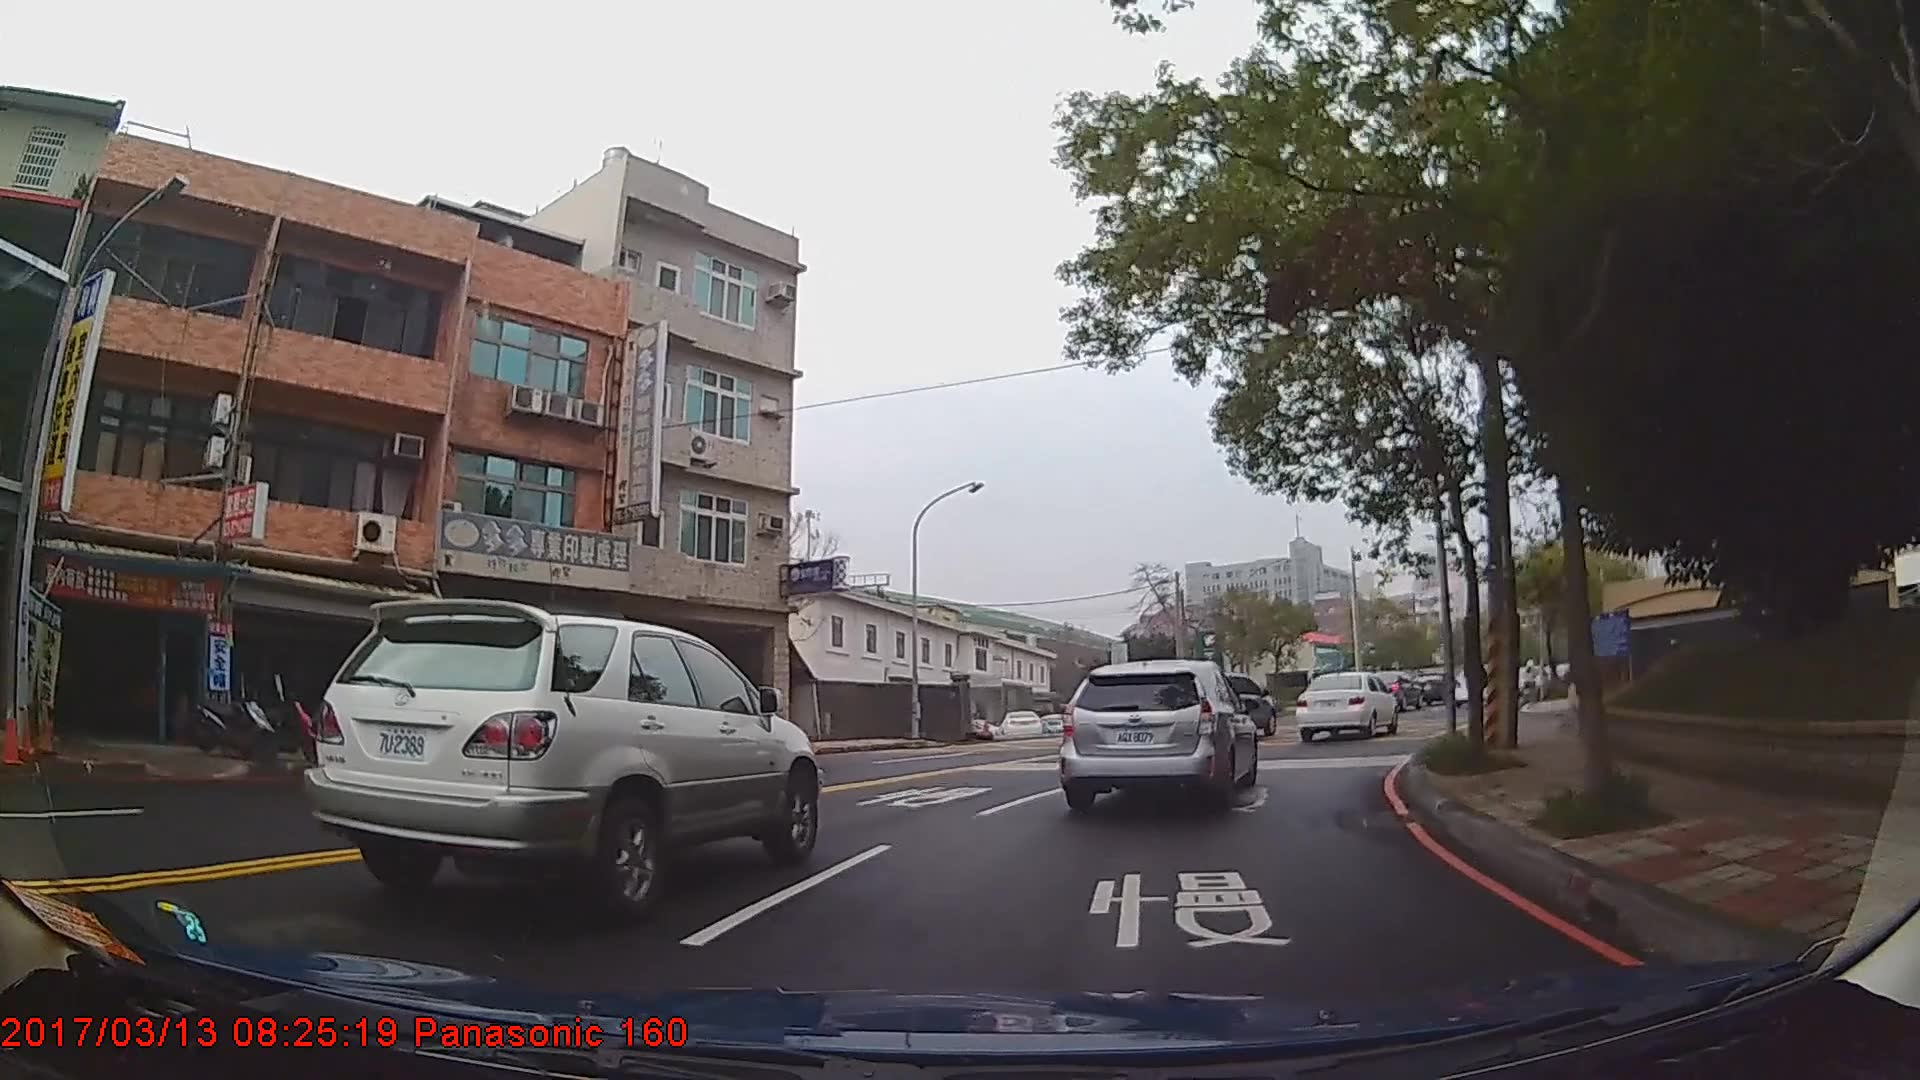vehicle: (299, 597, 822, 926), (1054, 658, 1255, 810), (1294, 670, 1400, 741), (1187, 673, 1276, 738), (1000, 708, 1044, 737)
